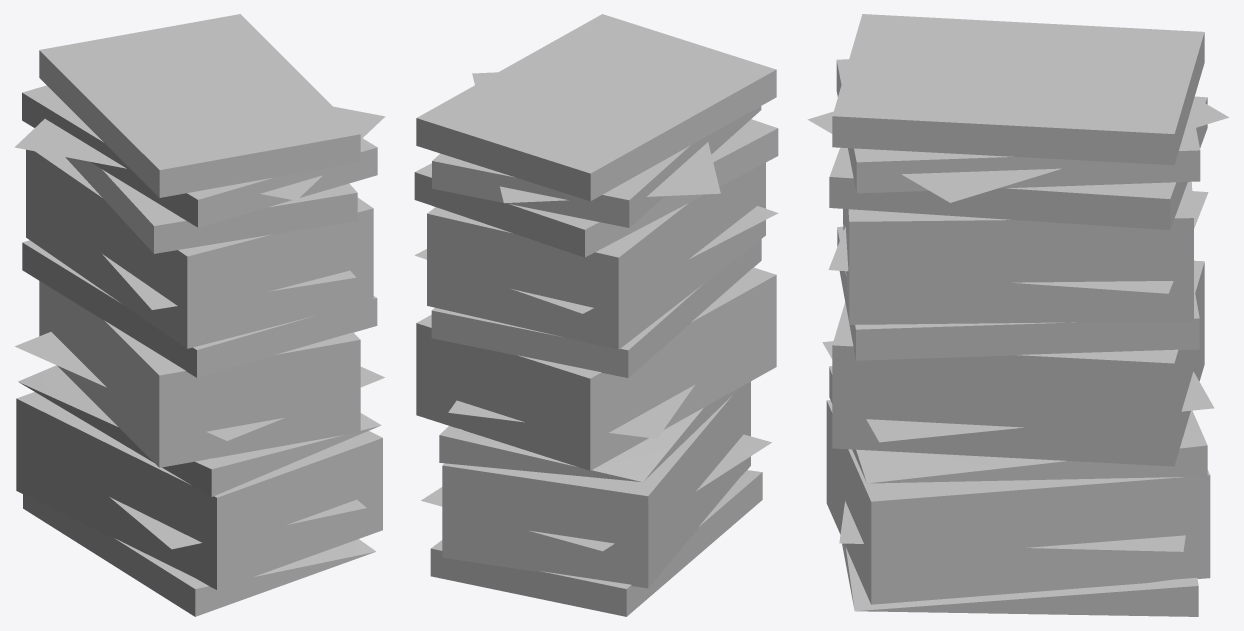
Rendered from flyer_stack.glb.
The picture shows the model from 3 angles, left to right: view 1: azimuth 30°, elevation 25°; view 2: azimuth 150°, elevation 25°; view 3: azimuth 270°, elevation 25°; orthographic projection. The views are drawn at different scales.
Parts seen in each view (by area): view 1: mesh; view 2: mesh; view 3: mesh.
Boxes of the visible parts, box(x1,y1,x2,y2) form: mesh: box(14, 14, 385, 616); mesh: box(414, 14, 778, 616); mesh: box(807, 14, 1229, 616).
Bounding box in the file's own units: 0.0146 × 0.02 × 0.0154.
Materials: 1 (1 with a texture image).
